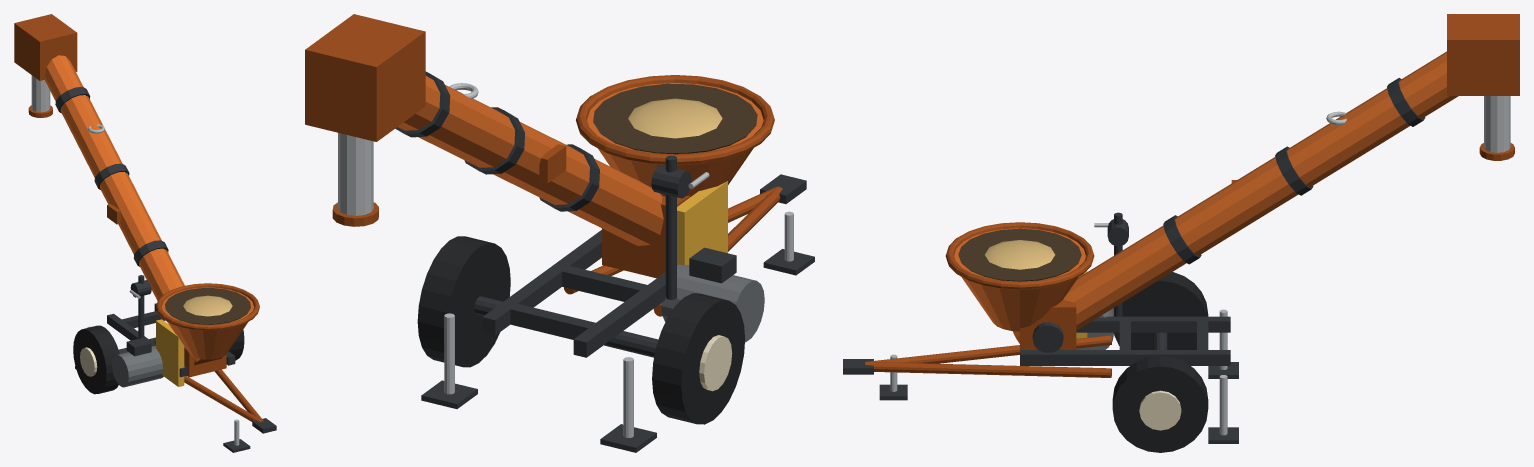
Rendered from grain_auger_v2.glb.
3 renders of one model, left to right at view 1: azimuth 30°, elevation 25°; view 2: azimuth 150°, elevation 25°; view 3: azimuth 270°, elevation 25°, orthographic. The views are drawn at different scales.
Visible parts, largest first — view 1: AugerFrame, AugerTube; view 2: AugerFrame, AugerTube; view 3: AugerFrame, AugerTube.
Boxes of the visible parts, x1=… form: AugerFrame: x1=73, y1=275, x2=276, y2=452; AugerTube: x1=14, y1=14, x2=222, y2=365; AugerFrame: x1=417, y1=75, x2=814, y2=452; AugerTube: x1=305, y1=14, x2=663, y2=245; AugerFrame: x1=843, y1=212, x2=1238, y2=452; AugerTube: x1=1012, y1=14, x2=1519, y2=343.
Size of the model in its own units: 1.68 by 2.97 by 4.82.
